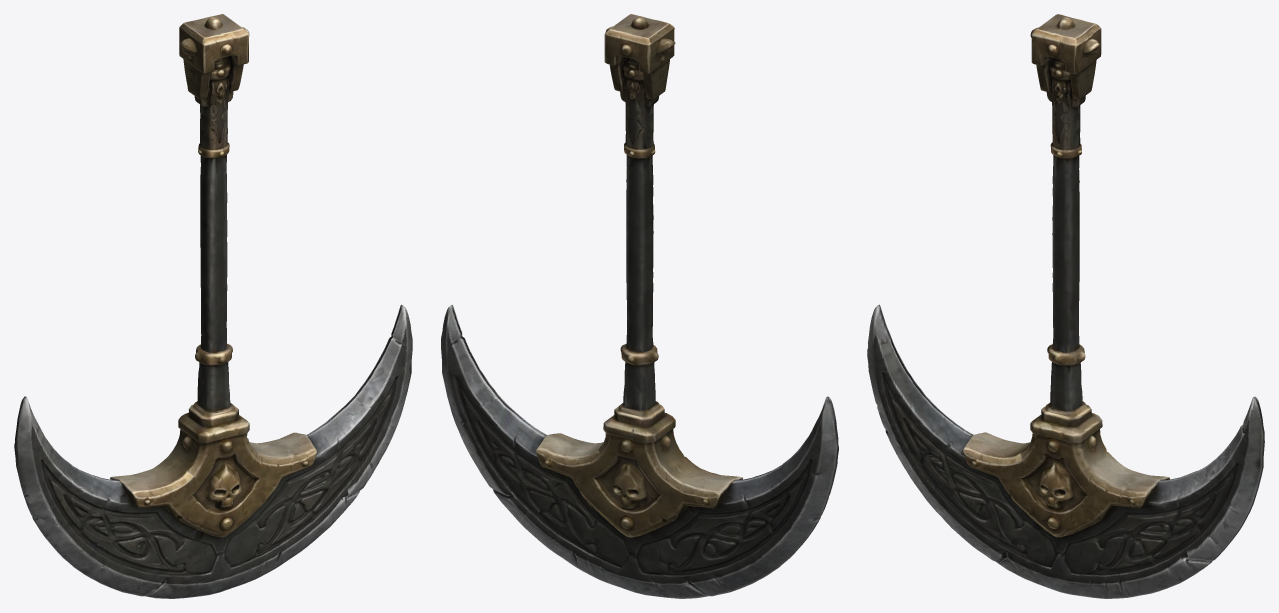
File: GuillotineBlade.fbx
The picture shows the model from 3 angles, left to right: view 1: azimuth 30°, elevation 25°; view 2: azimuth 150°, elevation 25°; view 3: azimuth 330°, elevation 25°; orthographic projection.
Visible parts, largest first — view 1: GuillotineBlade; view 2: GuillotineBlade; view 3: GuillotineBlade.
Boxes of the visible parts, x1,y1,x2,y2 form: GuillotineBlade: (14,14,412,598); GuillotineBlade: (441,14,838,598); GuillotineBlade: (867,14,1264,598).
Bounding box in the file's own units: 260 × 360 × 35.
1 material, 1 textured.
